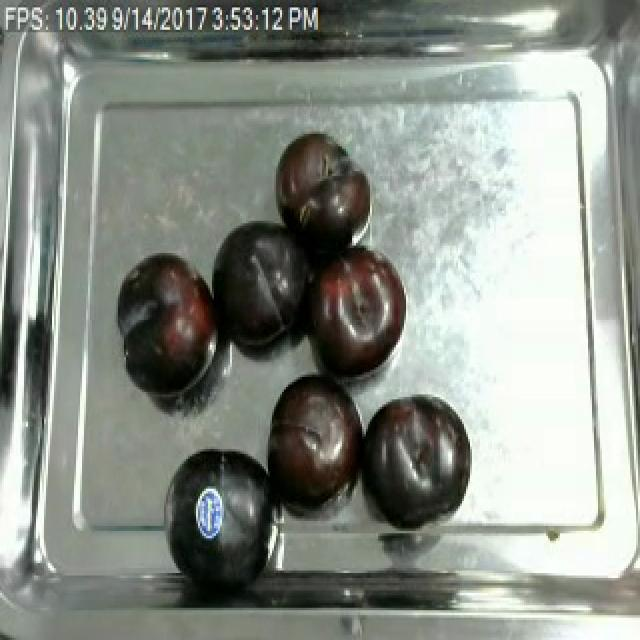Fruit: (156, 434, 282, 595), (254, 362, 368, 519), (114, 246, 226, 404), (294, 238, 410, 390), (354, 387, 474, 531), (206, 213, 318, 355), (268, 126, 380, 268)
